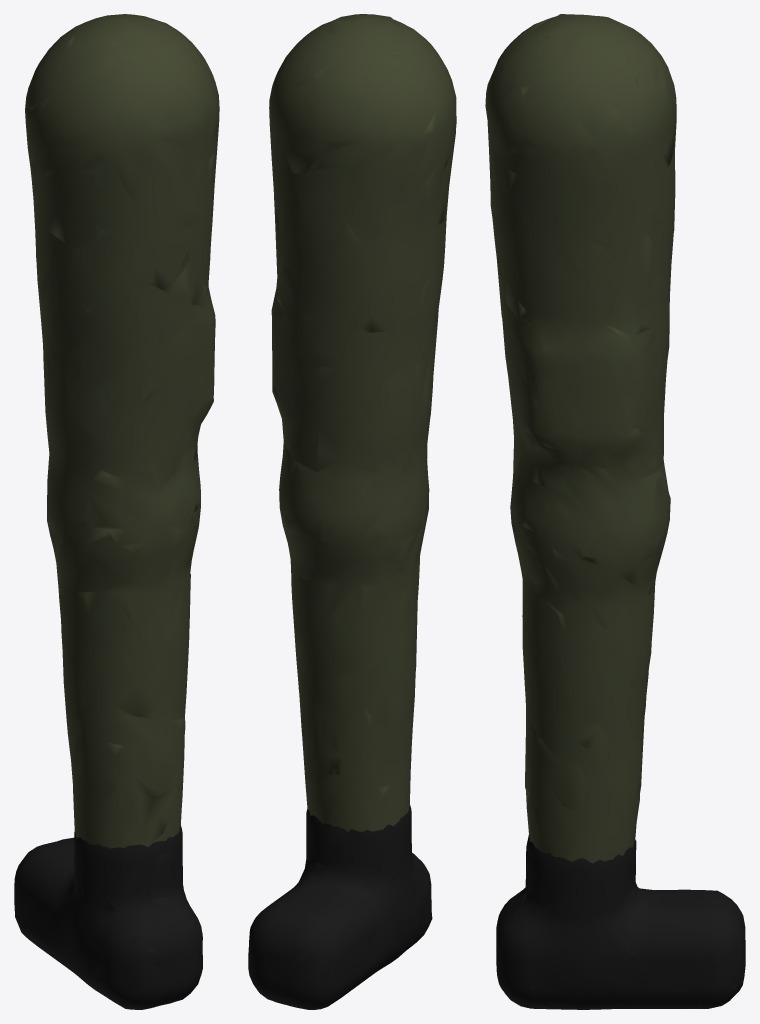
Rendered from guard_leg_r.obj.
3 renders of one model, left to right at view 1: azimuth 30°, elevation 25°; view 2: azimuth 150°, elevation 25°; view 3: azimuth 270°, elevation 25°, orthographic. The views are drawn at different scales.
Parts seen in each view (by area): view 1: pants, boots; view 2: pants, boots; view 3: pants, boots.
Boxes of the visible parts, x1,y1,x2,y2 form: pants: [25, 14, 219, 848]; boots: [14, 825, 202, 1009]; pants: [269, 14, 456, 832]; boots: [248, 805, 432, 1009]; pants: [485, 14, 676, 863]; boots: [496, 834, 745, 1009].
Size of the model in its own units: 0.1968 by 1.07 by 0.2611.
